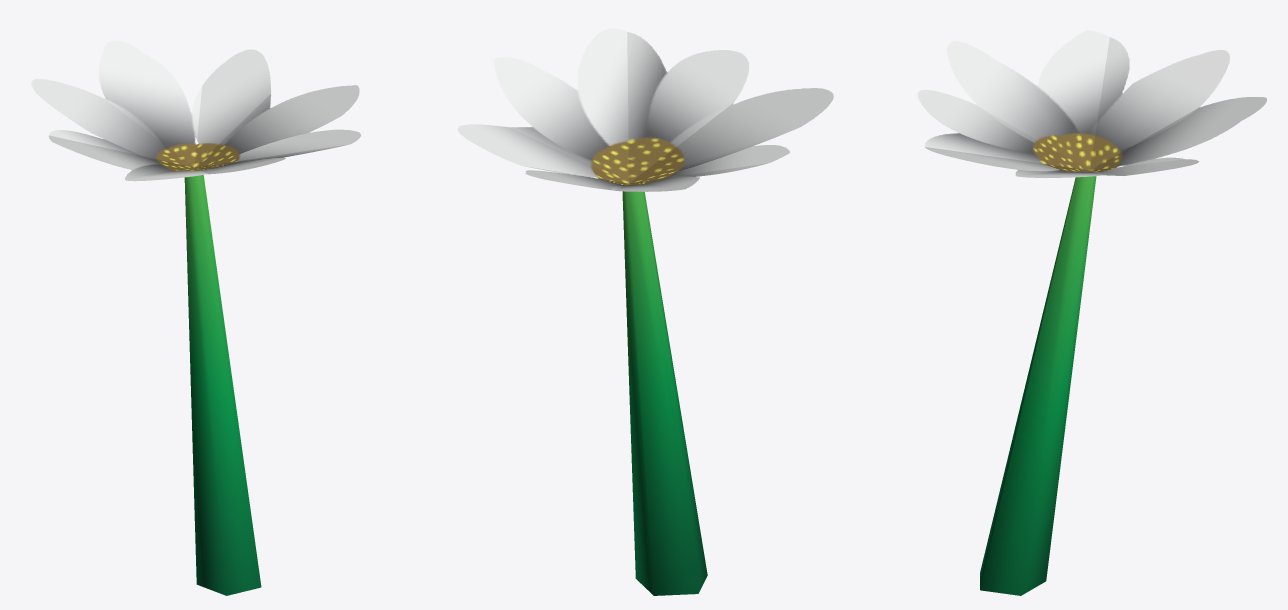
File: SM_Flower6(Fix).fbx
3 renders of one model, left to right at view 1: azimuth 30°, elevation 25°; view 2: azimuth 150°, elevation 25°; view 3: azimuth 270°, elevation 25°, orthographic. The views are drawn at different scales.
Parts seen in each view (by area): view 1: Flower_Mash6; view 2: Flower_Mash6; view 3: Flower_Mash6.
Boxes of the visible parts, x1,y1,x2,y2 form: Flower_Mash6: (31, 40, 361, 595); Flower_Mash6: (457, 28, 833, 595); Flower_Mash6: (917, 30, 1266, 595).
Bounding box in the file's own units: 0.084 × 0.1142 × 0.0787.
